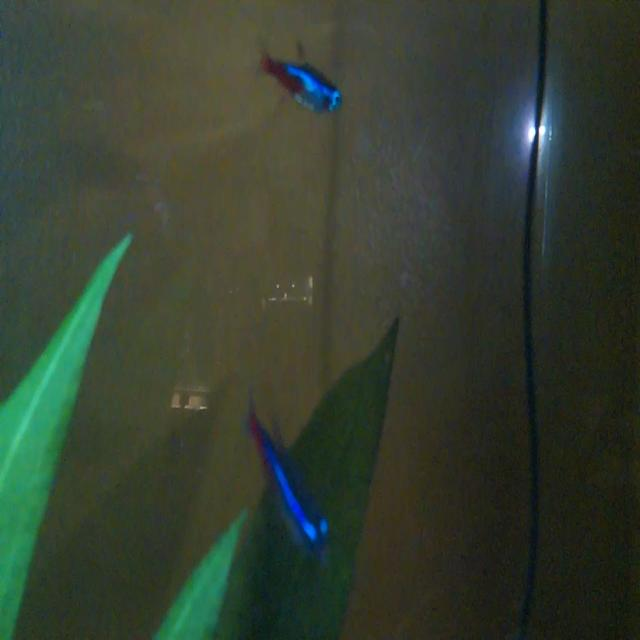fish: (226, 379, 343, 557), (248, 26, 363, 135)
